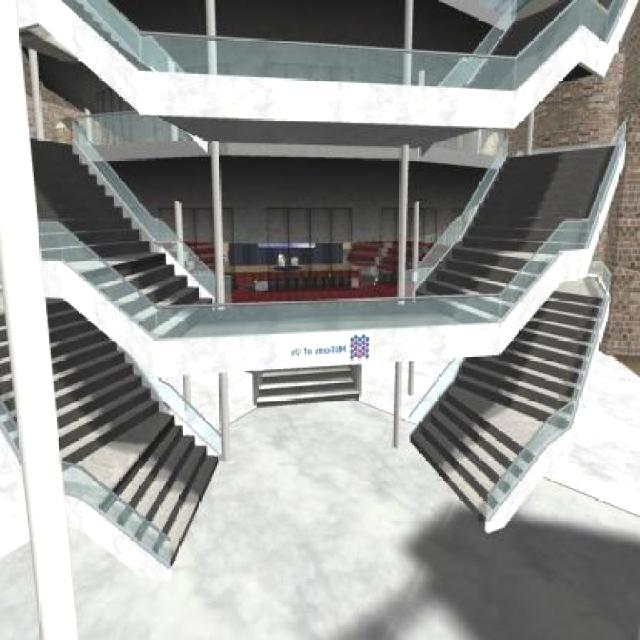stair: (0, 300, 220, 574), (409, 297, 608, 534), (414, 142, 626, 326), (30, 140, 214, 344), (58, 0, 156, 74), (256, 362, 358, 409)
